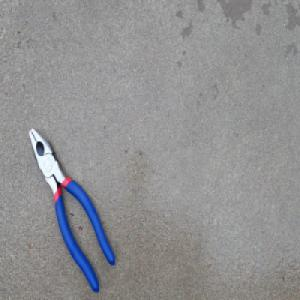Pliers: (28, 124, 116, 292)
